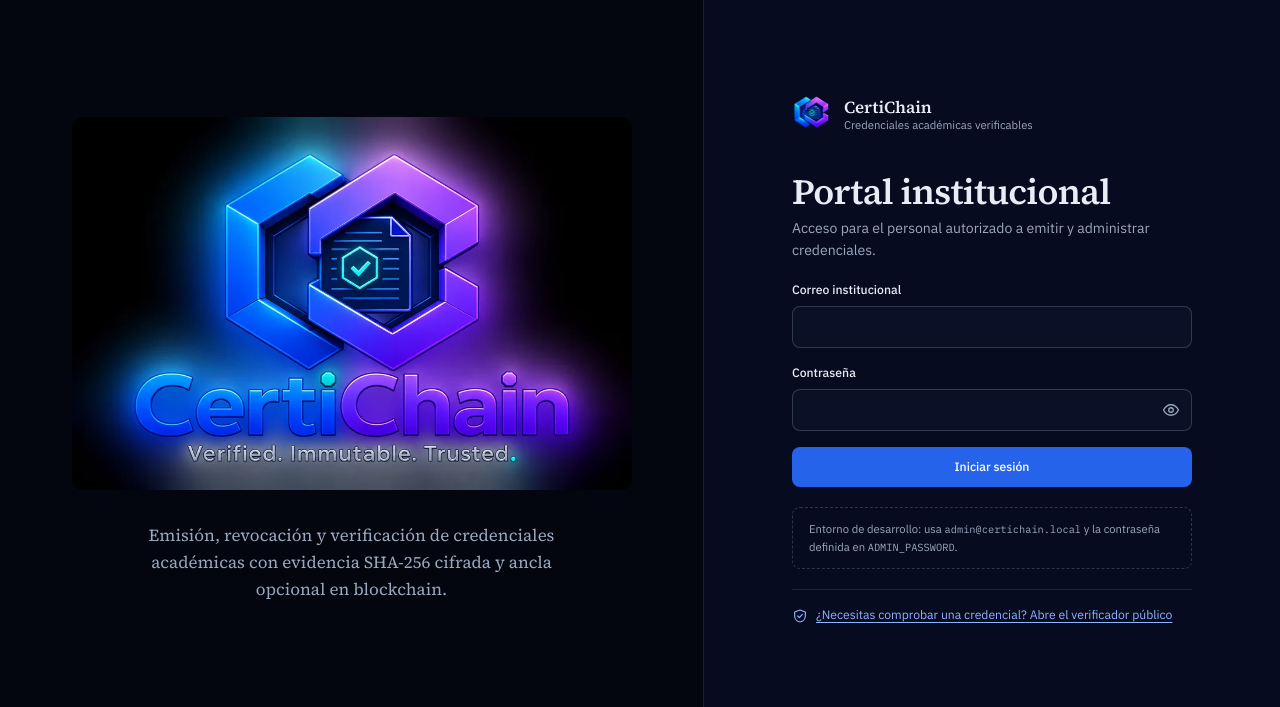
login and session › signs in, stores the session and opens the dashboard
Type "admin@certichain.local" into the field labelled "Correo institucional" at x=992, y=327, box [792,306,1192,348]
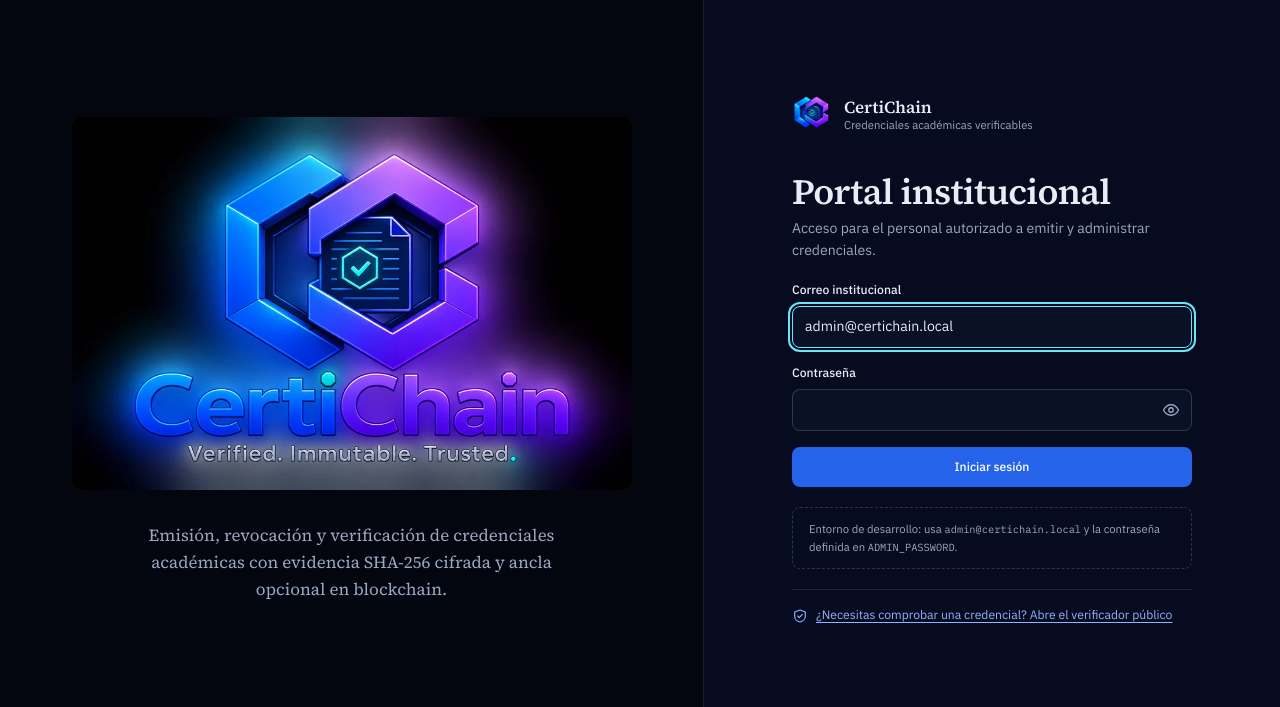
Type "CertiChain123!" into the password field labelled "Contraseña" at x=992, y=410, box [792,389,1192,431]
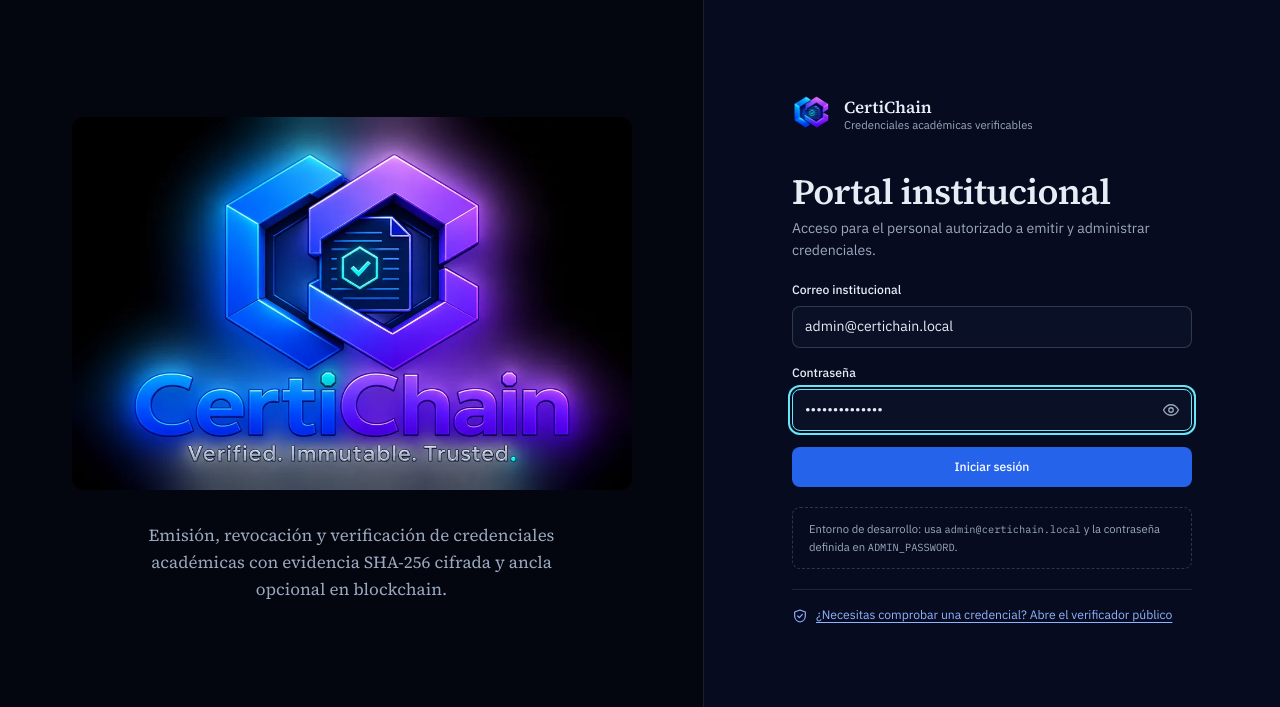
Click the button "Iniciar sesión" at x=992, y=467, box [792,447,1192,487]
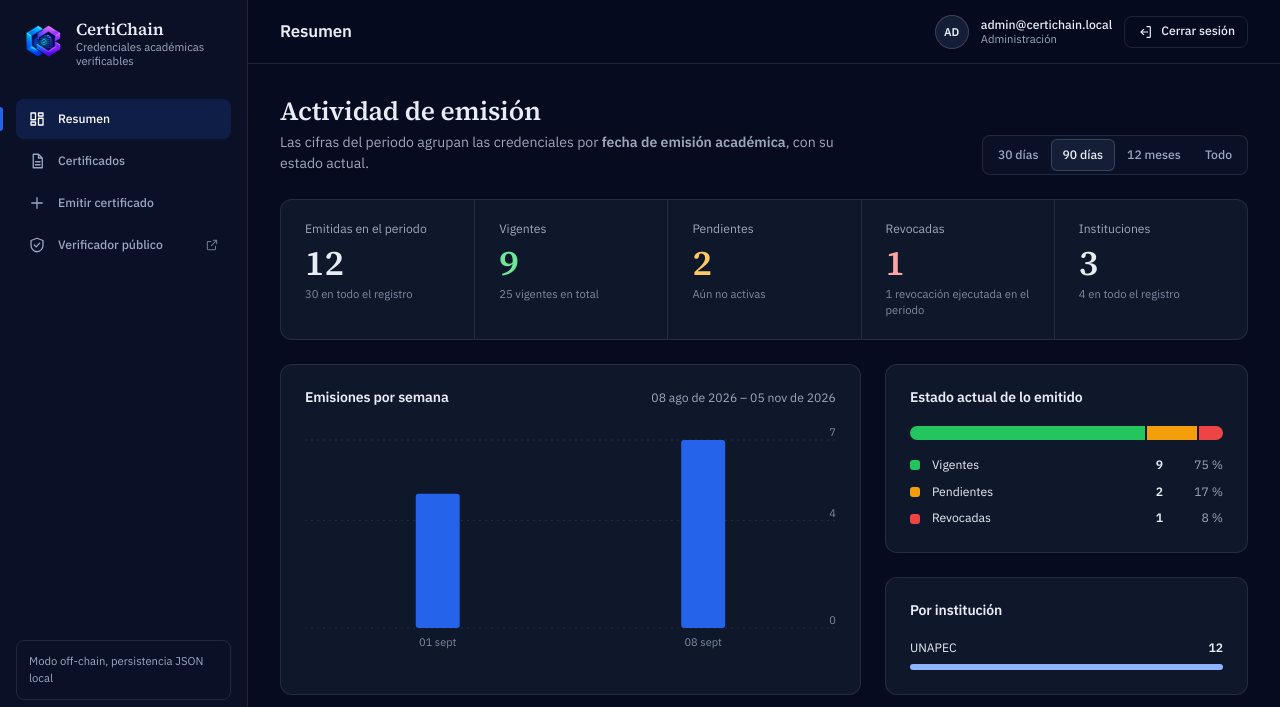
Expected: the heading "Actividad de emisión" is shown, [280,93,541,129]
